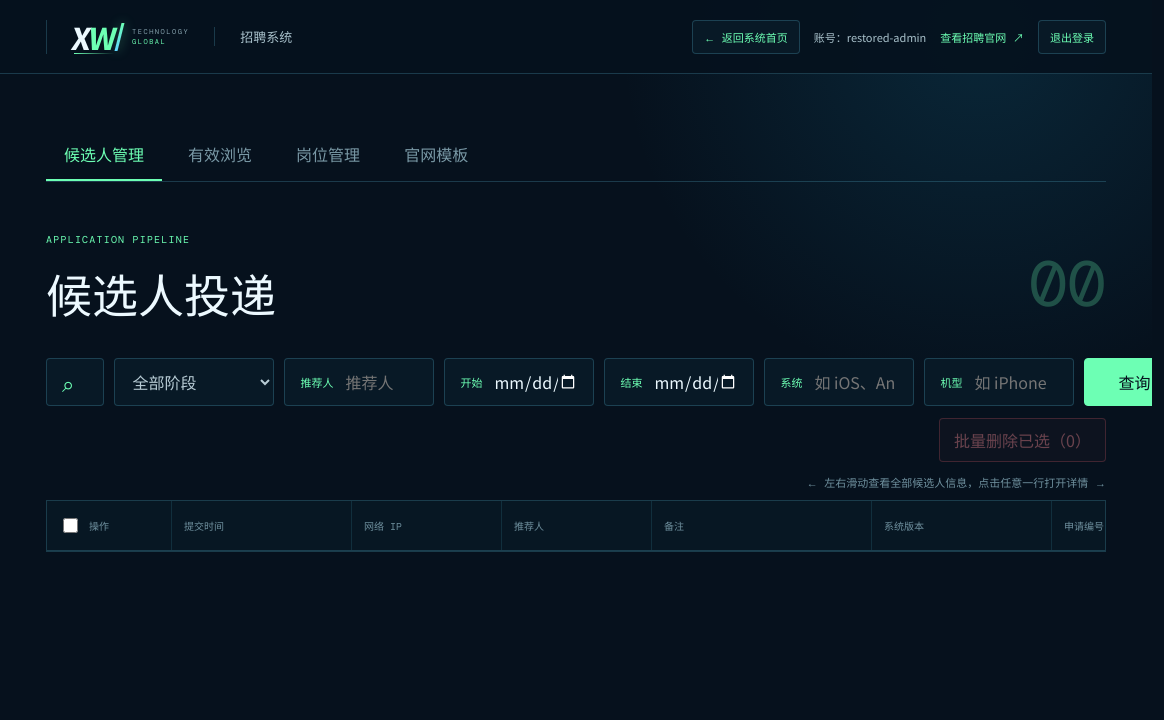
Test: AdminView subsystem shell › prevents the current applications loader from writing while successful logout is in flight
Click the button with test id "logout" at (1072,36), box x1=1038 y1=20 x2=1106 y2=54
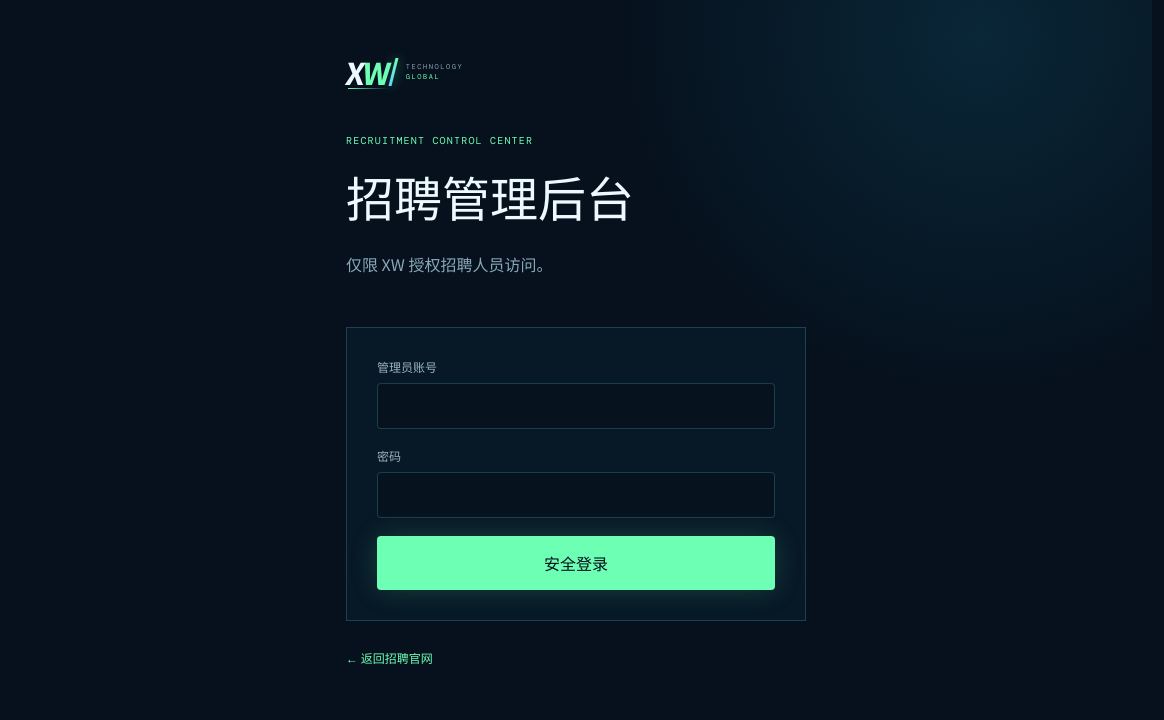
Check: the text "安全登录" is shown, box x1=377 y1=536 x2=775 y2=590
